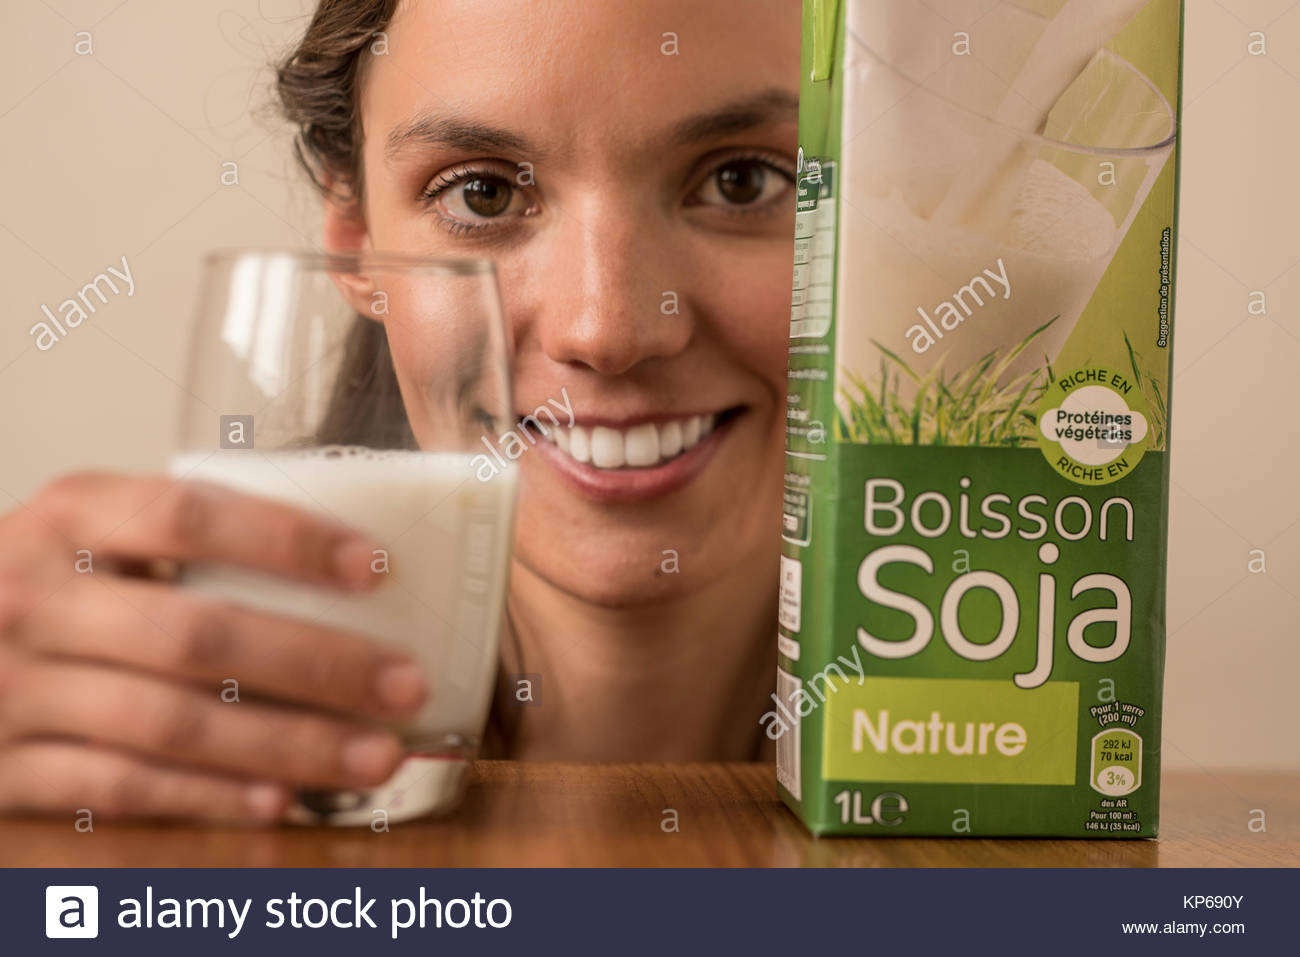carton: (761, 1, 1194, 855)
